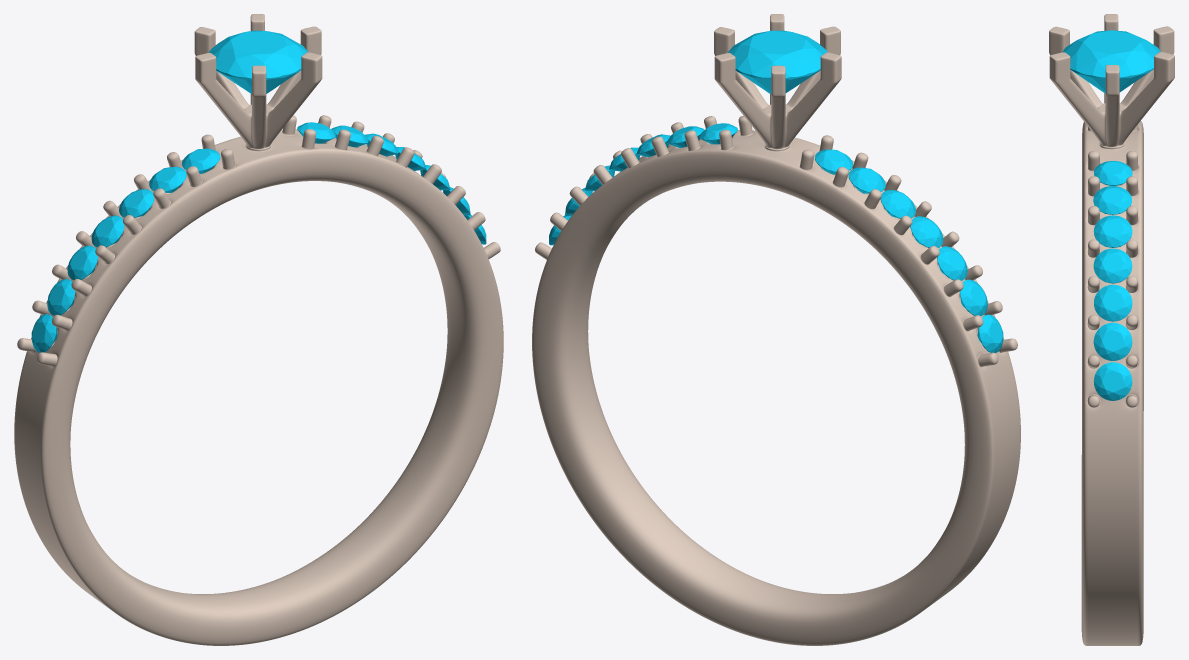
Rendered from ring2.glb.
3 renders of one model, left to right at view 1: azimuth 30°, elevation 25°; view 2: azimuth 150°, elevation 25°; view 3: azimuth 270°, elevation 25°, orthographic.
Visible parts, largest first — view 1: Round; view 2: Round; view 3: Round.
Boxes of the visible parts, x1=… form: Round: x1=14, y1=14, x2=503, y2=645; Round: x1=532, y1=14, x2=1020, y2=645; Round: x1=1049, y1=14, x2=1174, y2=645.
Size of the model in its own units: 0.5449 by 0.662 by 0.1305.
